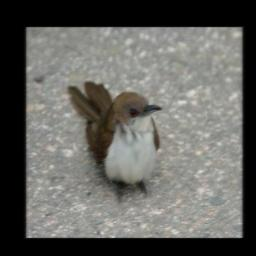Cuckoo: (67, 80, 163, 204)
